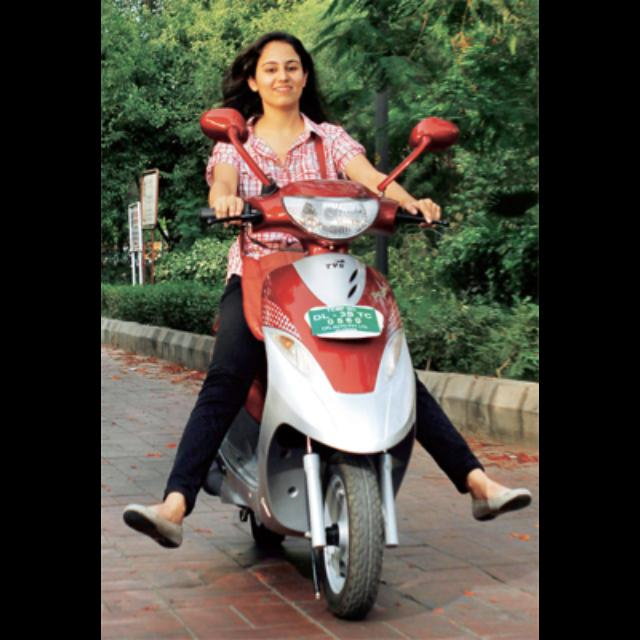Without Helmet: (242, 22, 312, 112)
